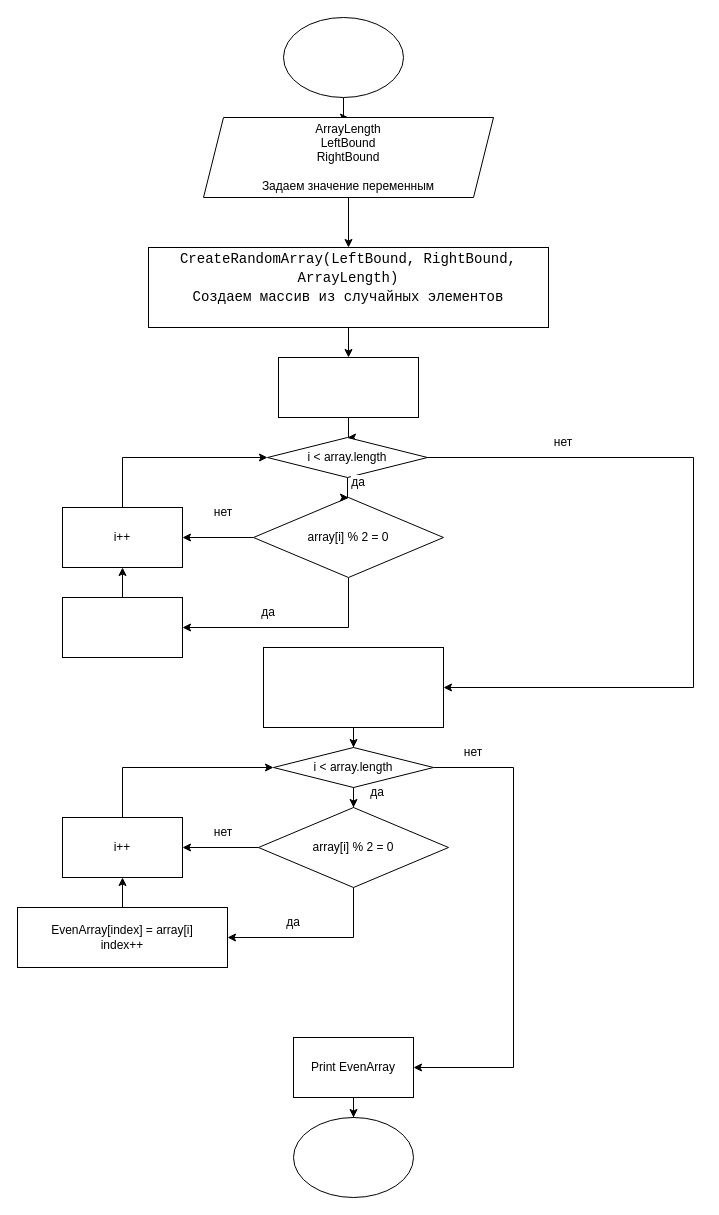
The diagram is 719 pixels wide and 1215 high, and some of its shapes have lost their labels. Each missing label, with the centre of its shape:
"count ++" goes at point 122,627.
"count = 0 i = 0" goes at point 348,387.
"EvenArray[count] Создаем массив длинной count index = 0 i = 0" goes at point 353,687.
"Конец" goes at point 353,1157.
"Начало" goes at point 343,57.
